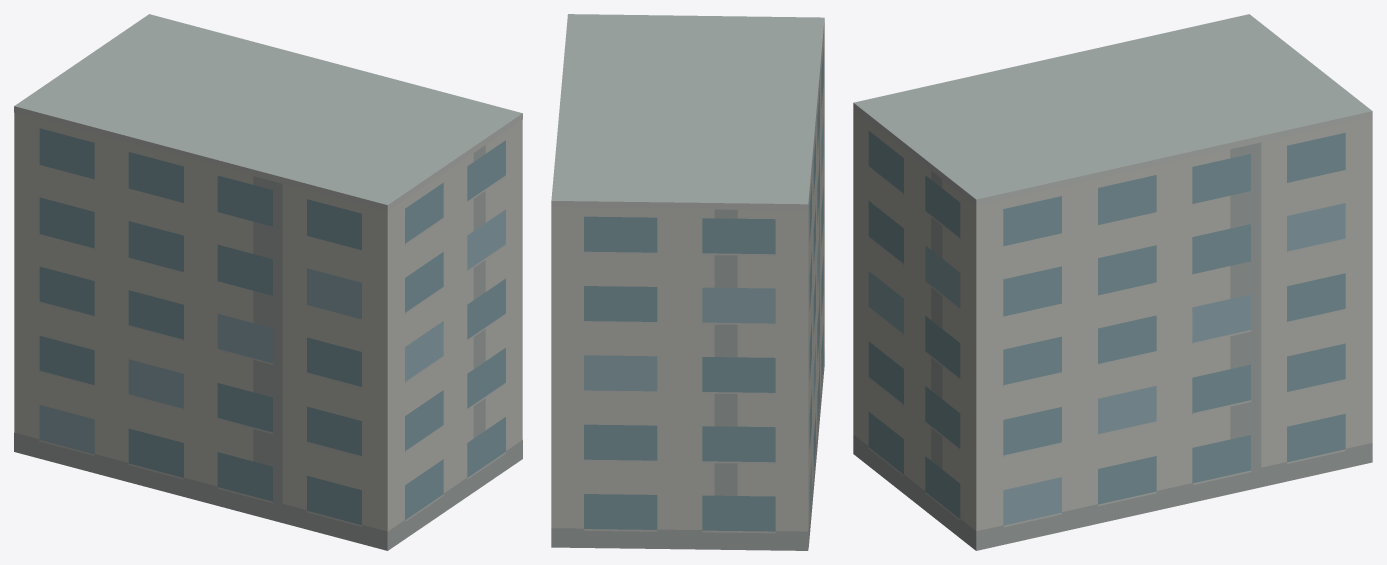
The model's file is survey-upis-32883456.glb.
The picture shows the model from 3 angles, left to right: view 1: azimuth 30°, elevation 25°; view 2: azimuth 150°, elevation 25°; view 3: azimuth 270°, elevation 25°; orthographic projection.
Visible parts, largest first — view 1: survey-upis-32883456.tmp; view 2: survey-upis-32883456.tmp; view 3: survey-upis-32883456.tmp.
Boxes of the visible parts, x1,y1,x2,y2 form: survey-upis-32883456.tmp: (14, 14, 522, 550); survey-upis-32883456.tmp: (551, 14, 824, 550); survey-upis-32883456.tmp: (853, 14, 1372, 550).
Bounding box in the file's own units: 14.96 × 13.2 × 17.69.
